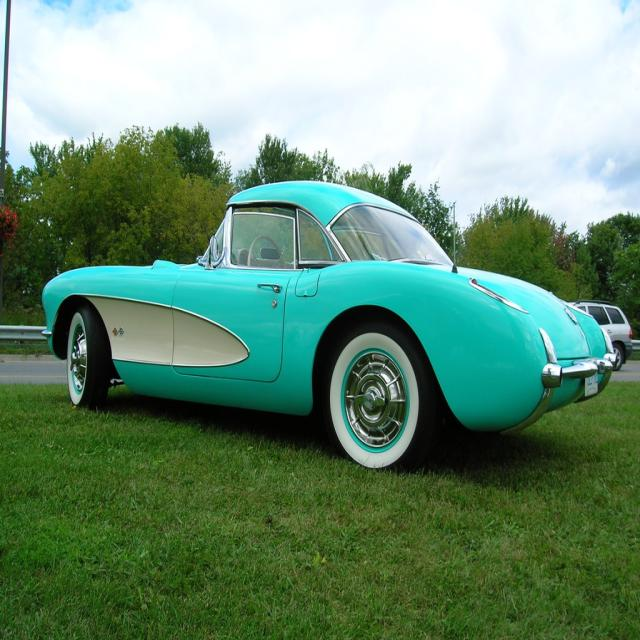car: (39, 183, 600, 464)
